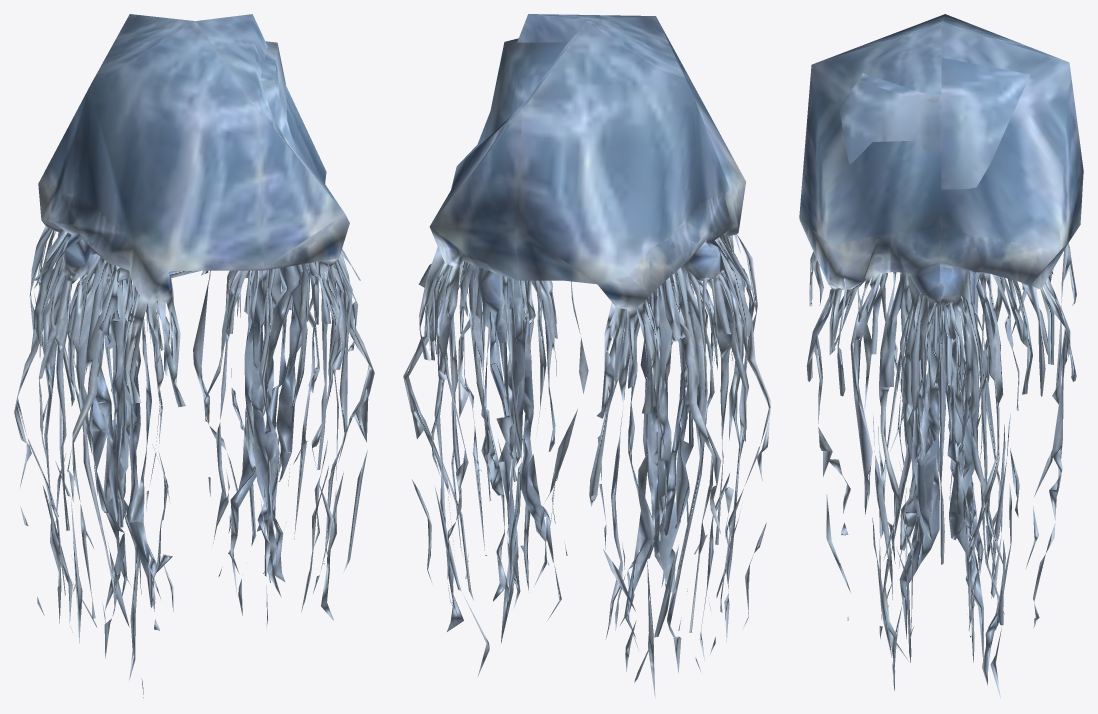
The model's file is jellyfish-phone.glb.
3 views of the same model, side by side, from view 1: azimuth 30°, elevation 25°; view 2: azimuth 150°, elevation 25°; view 3: azimuth 270°, elevation 25° (orthographic). The views are drawn at different scales.
Bounding box in the file's own units: 0.9709 × 1.9 × 0.7676.
1 material, 1 textured.
